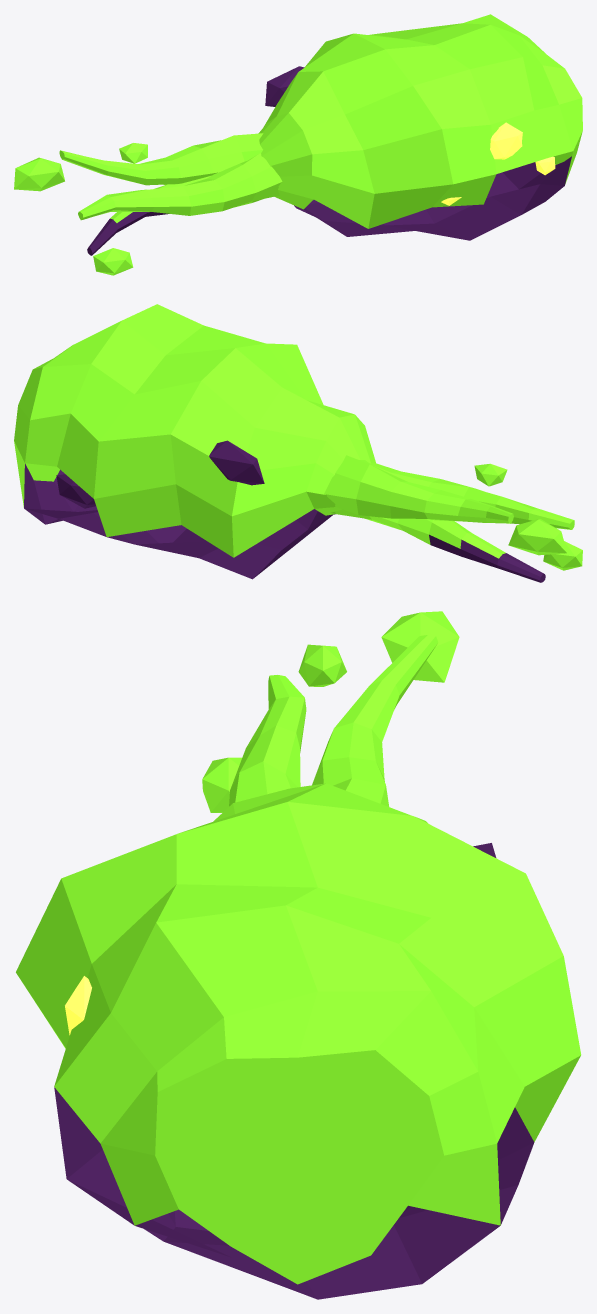
The model's file is poison_glob_trial.glb.
3 renders of one model, top to bottom at view 1: azimuth 30°, elevation 25°; view 2: azimuth 150°, elevation 25°; view 3: azimuth 270°, elevation 25°, orthographic. The views are drawn at different scales.
Visible parts, largest first — view 1: PoisonBody, PoisonTendrilMiddle, PoisonTendrilUpper, PoisonDropletA, PoisonTendrilLower, PoisonCoreLarge, PoisonDropletB, PoisonVioletCrustA, PoisonDropletC; view 2: PoisonBody, PoisonTendrilUpper, PoisonTendrilLower, PoisonTendrilMiddle, PoisonVioletCrustA, PoisonDropletA, PoisonVioletCrustB, PoisonDropletB, PoisonDropletC; view 3: PoisonBody, PoisonTendrilUpper, PoisonTendrilMiddle, PoisonDropletA, PoisonDropletC, PoisonDropletB, PoisonCoreLarge.
Part boxes in pixels (x1=…): PoisonBody: x1=258, y1=14, x2=582, y2=240; PoisonTendrilMiddle: x1=78, y1=153, x2=282, y2=220; PoisonTendrilUpper: x1=59, y1=133, x2=263, y2=185; PoisonDropletA: x1=14, y1=157, x2=64, y2=191; PoisonTendrilLower: x1=87, y1=175, x2=278, y2=255; PoisonCoreLarge: x1=490, y1=122, x2=522, y2=159; PoisonDropletB: x1=93, y1=248, x2=133, y2=275; PoisonVioletCrustA: x1=265, y1=66, x2=304, y2=106; PoisonDropletC: x1=119, y1=143, x2=147, y2=163; PoisonBody: x1=14, y1=304, x2=376, y2=579; PoisonTendrilUpper: x1=324, y1=455, x2=513, y2=523; PoisonTendrilLower: x1=331, y1=509, x2=545, y2=582; PoisonTendrilMiddle: x1=370, y1=463, x2=574, y2=529; PoisonVioletCrustA: x1=209, y1=440, x2=264, y2=485; PoisonDropletA: x1=508, y1=518, x2=566, y2=555; PoisonVioletCrustB: x1=56, y1=474, x2=95, y2=508; PoisonDropletB: x1=543, y1=541, x2=582, y2=570; PoisonDropletC: x1=474, y1=463, x2=507, y2=486; PoisonBody: x1=16, y1=783, x2=581, y2=1299; PoisonTendrilUpper: x1=312, y1=635, x2=438, y2=806; PoisonTendrilMiddle: x1=229, y1=675, x2=306, y2=806; PoisonDropletA: x1=381, y1=611, x2=459, y2=682; PoisonDropletC: x1=298, y1=644, x2=346, y2=686; PoisonDropletB: x1=202, y1=757, x2=241, y2=812; PoisonCoreLarge: x1=65, y1=976, x2=91, y2=1035.
Size of the model in its own units: 3.45 by 1.27 by 1.68.
